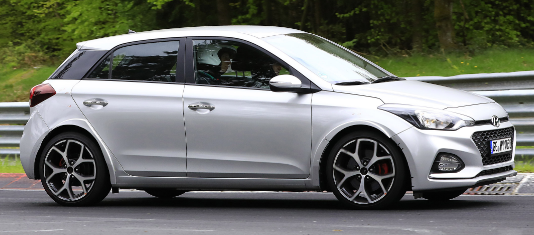car: (16, 25, 518, 216)
